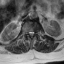CCS_normal: (30, 30, 32, 40)
LFS_stenosis: (34, 30, 36, 35)
LLS_normal: (32, 30, 34, 37)
RFS_stenosis: (26, 30, 28, 36)
RLS_stenosis: (28, 30, 30, 36)
